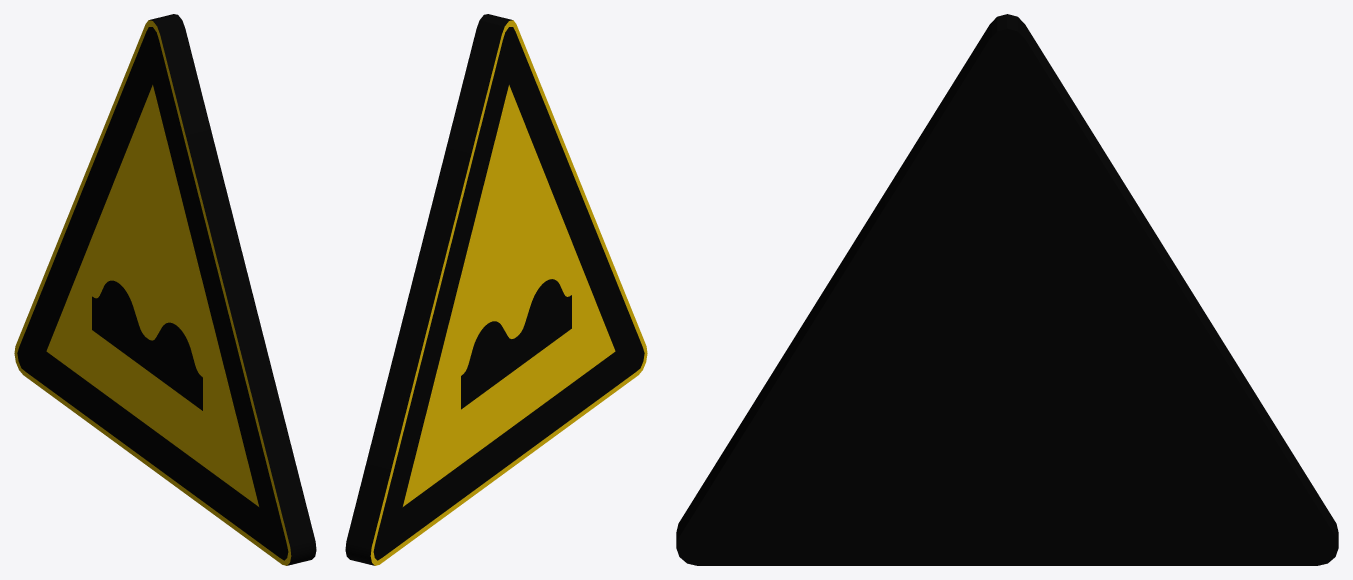
The model's file is Uneven_Road.fbx.
3 views of the same model, side by side, from view 1: azimuth 30°, elevation 25°; view 2: azimuth 150°, elevation 25°; view 3: azimuth 270°, elevation 25° (orthographic). The views are drawn at different scales.
Visible parts, largest first — view 1: Uneven_Road; view 2: Uneven_Road; view 3: Uneven_Road.
Part boxes in pixels (box(x1,y1,x2,y2)): Uneven_Road: box(14, 14, 316, 565); Uneven_Road: box(345, 14, 647, 565); Uneven_Road: box(676, 14, 1338, 565).
Size of the model in its own units: 0.075 by 1.02 by 1.14.
